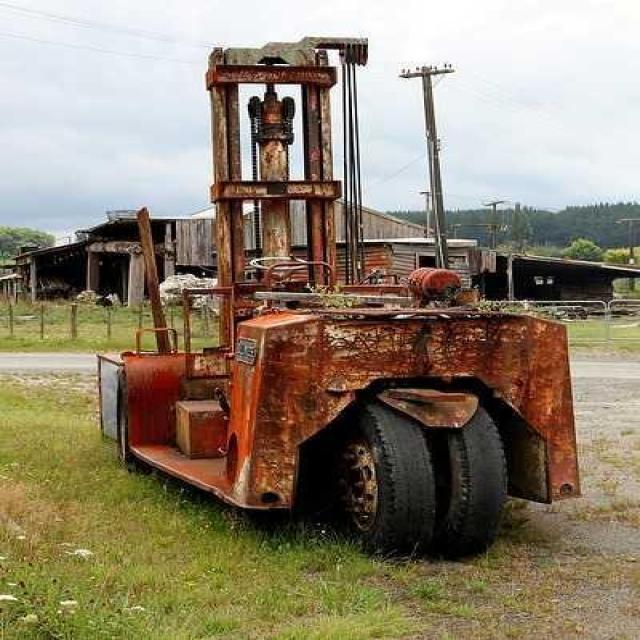forklift: (120, 37, 584, 556)
